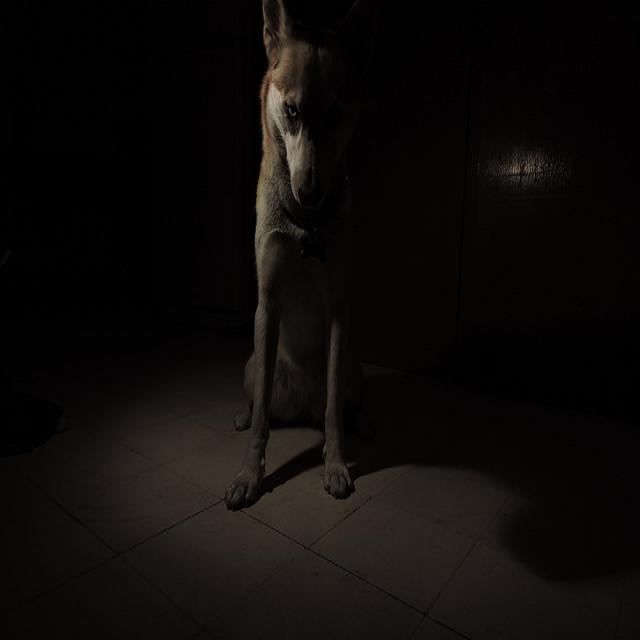Dog: (214, 48, 432, 519)
